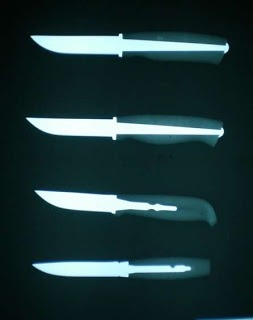knife: (23, 108, 231, 150), (24, 25, 236, 66), (31, 185, 219, 231), (29, 253, 215, 284)
